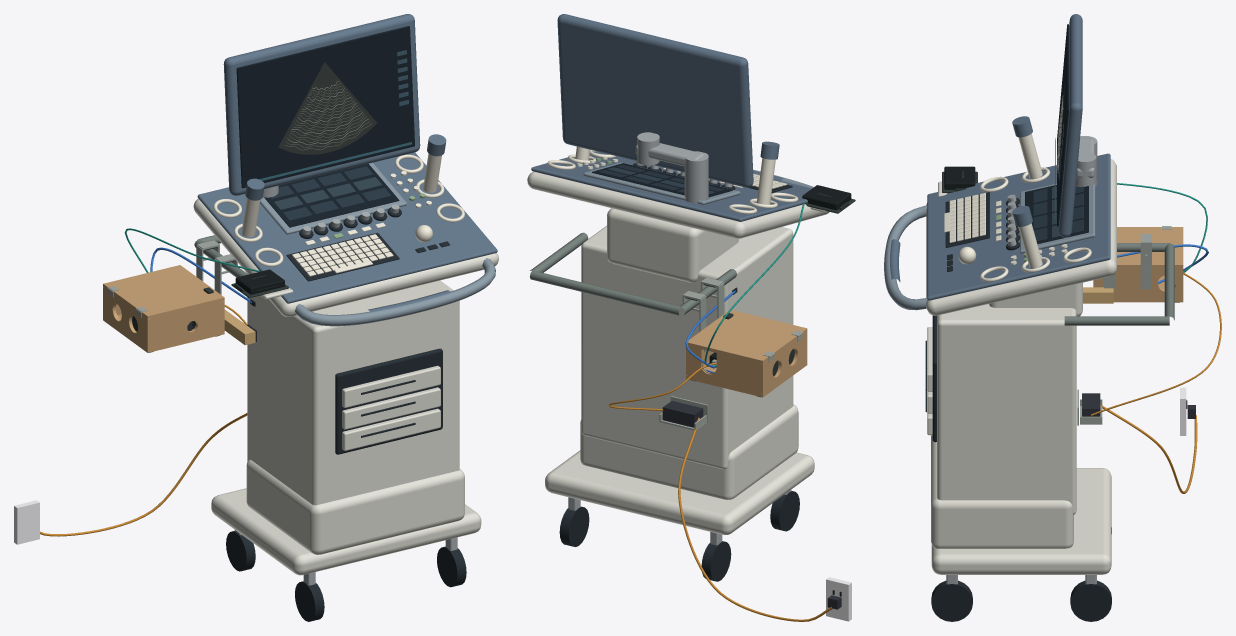
The model's file is forher-recorder-v12-15cm-support.glb.
The picture shows the model from 3 angles, left to right: view 1: azimuth 30°, elevation 25°; view 2: azimuth 150°, elevation 25°; view 3: azimuth 270°, elevation 25°; orthographic projection.
Parts seen in each view (by area): view 1: Rounded lower machine body, Dark monitor glass, Blue-grey operation fascia, Lower skirt transition, Wheeled pedestal, Blue-grey monitor bezel, Front removable module face (×3), Synthetic ultrasound fan - no patient data, Wide operation interface table, A hinged top plywood, Front equipment bay, Caster wheel (×3) (+9 smaller); view 2: Rounded lower machine body, Blue-grey monitor bezel, Wheeled pedestal, Lower skirt transition, Operation deck pedestal, Wide operation interface table, Blue-grey operation fascia, A hinged top plywood, Caster wheel (×3), E rear open U notch - 45 wide 63.5 deep R22.5, Rear transverse grip, C left ventilation diameter 45 x 2 (+12 smaller); view 3: Rounded lower machine body, Blue-grey operation fascia, Wheeled pedestal, Lower skirt transition, Wide operation interface table, Blue-grey monitor bezel, Caster wheel (×2), A hinged top plywood, D right cable hole diameter 45, Operation deck pedestal, Curved front push handle, Probe grip (×2) (+12 smaller).
Boxes of the visible parts, x1=… form: Rounded lower machine body: x1=247, y1=280, x2=459, y2=505; Dark monitor glass: x1=236, y1=26, x2=414, y2=188; Blue-grey operation fascia: x1=197, y1=152, x2=497, y2=303; Lower skirt transition: x1=246, y1=459, x2=464, y2=554; Wheeled pedestal: x1=211, y1=488, x2=481, y2=575; Blue-grey monitor bezel: x1=223, y1=14, x2=420, y2=195; Front removable module face (×3): x1=342, y1=365, x2=440, y2=450; Synthetic ultrasound fan - no patient data: x1=278, y1=62, x2=376, y2=154; Wide operation interface table: x1=193, y1=198, x2=498, y2=316; A hinged top plywood: x1=103, y1=265, x2=224, y2=319; Front equipment bay: x1=335, y1=348, x2=442, y2=454; Caster wheel (×3): x1=226, y1=531, x2=466, y2=621; Rounded lower machine body: x1=581, y1=225, x2=793, y2=469; Blue-grey monitor bezel: x1=557, y1=14, x2=753, y2=187; Wheeled pedestal: x1=545, y1=450, x2=814, y2=534; Lower skirt transition: x1=580, y1=404, x2=798, y2=499; Operation deck pedestal: x1=607, y1=208, x2=738, y2=282; Wide operation interface table: x1=527, y1=171, x2=829, y2=238; Blue-grey operation fascia: x1=531, y1=151, x2=811, y2=221; A hinged top plywood: x1=687, y1=310, x2=807, y2=363; Caster wheel (×3): x1=559, y1=491, x2=799, y2=581; E rear open U notch - 45 wide 63.5 deep R22.5: x1=689, y1=346, x2=759, y2=393; Rear transverse grip: x1=530, y1=270, x2=680, y2=315; C left ventilation diameter 45 x 2: x1=760, y1=332, x2=807, y2=393; Rounded lower machine body: x1=937, y1=304, x2=1076, y2=514; Blue-grey operation fascia: x1=927, y1=153, x2=1110, y2=300; Wheeled pedestal: x1=931, y1=468, x2=1111, y2=574; Lower skirt transition: x1=931, y1=435, x2=1073, y2=548; Wide operation interface table: x1=926, y1=159, x2=1116, y2=315; Blue-grey monitor bezel: x1=1058, y1=14, x2=1082, y2=237; Caster wheel (×2): x1=931, y1=580, x2=1111, y2=621; A hinged top plywood: x1=1117, y1=227, x2=1183, y2=268; D right cable hole diameter 45: x1=1093, y1=268, x2=1183, y2=298; Operation deck pedestal: x1=989, y1=282, x2=1082, y2=316; Curved front push handle: x1=884, y1=205, x2=927, y2=310; Probe grip (×2): x1=1018, y1=134, x2=1042, y2=268.
Size of the model in its own units: 1.02 by 1.42 by 0.8262.
